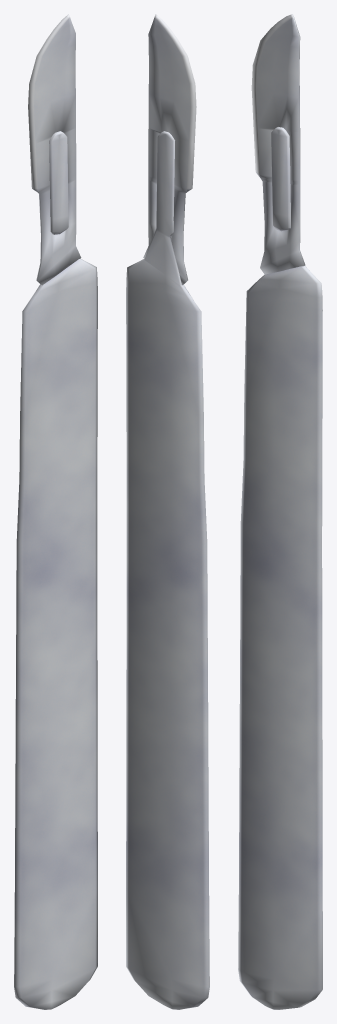
The model's file is Scalp.glb.
3 views of the same model, side by side, from view 1: azimuth 30°, elevation 25°; view 2: azimuth 150°, elevation 25°; view 3: azimuth 330°, elevation 25° (orthographic).
Parts seen in each view (by area): view 1: Плоскость; view 2: Плоскость; view 3: Плоскость.
Part boxes in pixels (<box>): Плоскость: <box>14,14,97,1009</box>; Плоскость: <box>126,14,209,1009</box>; Плоскость: <box>238,14,322,1009</box>.
Bounding box in the file's own units: 0.0411 × 0.4642 × 0.00348.
Materials: 1 (1 with a texture image).
